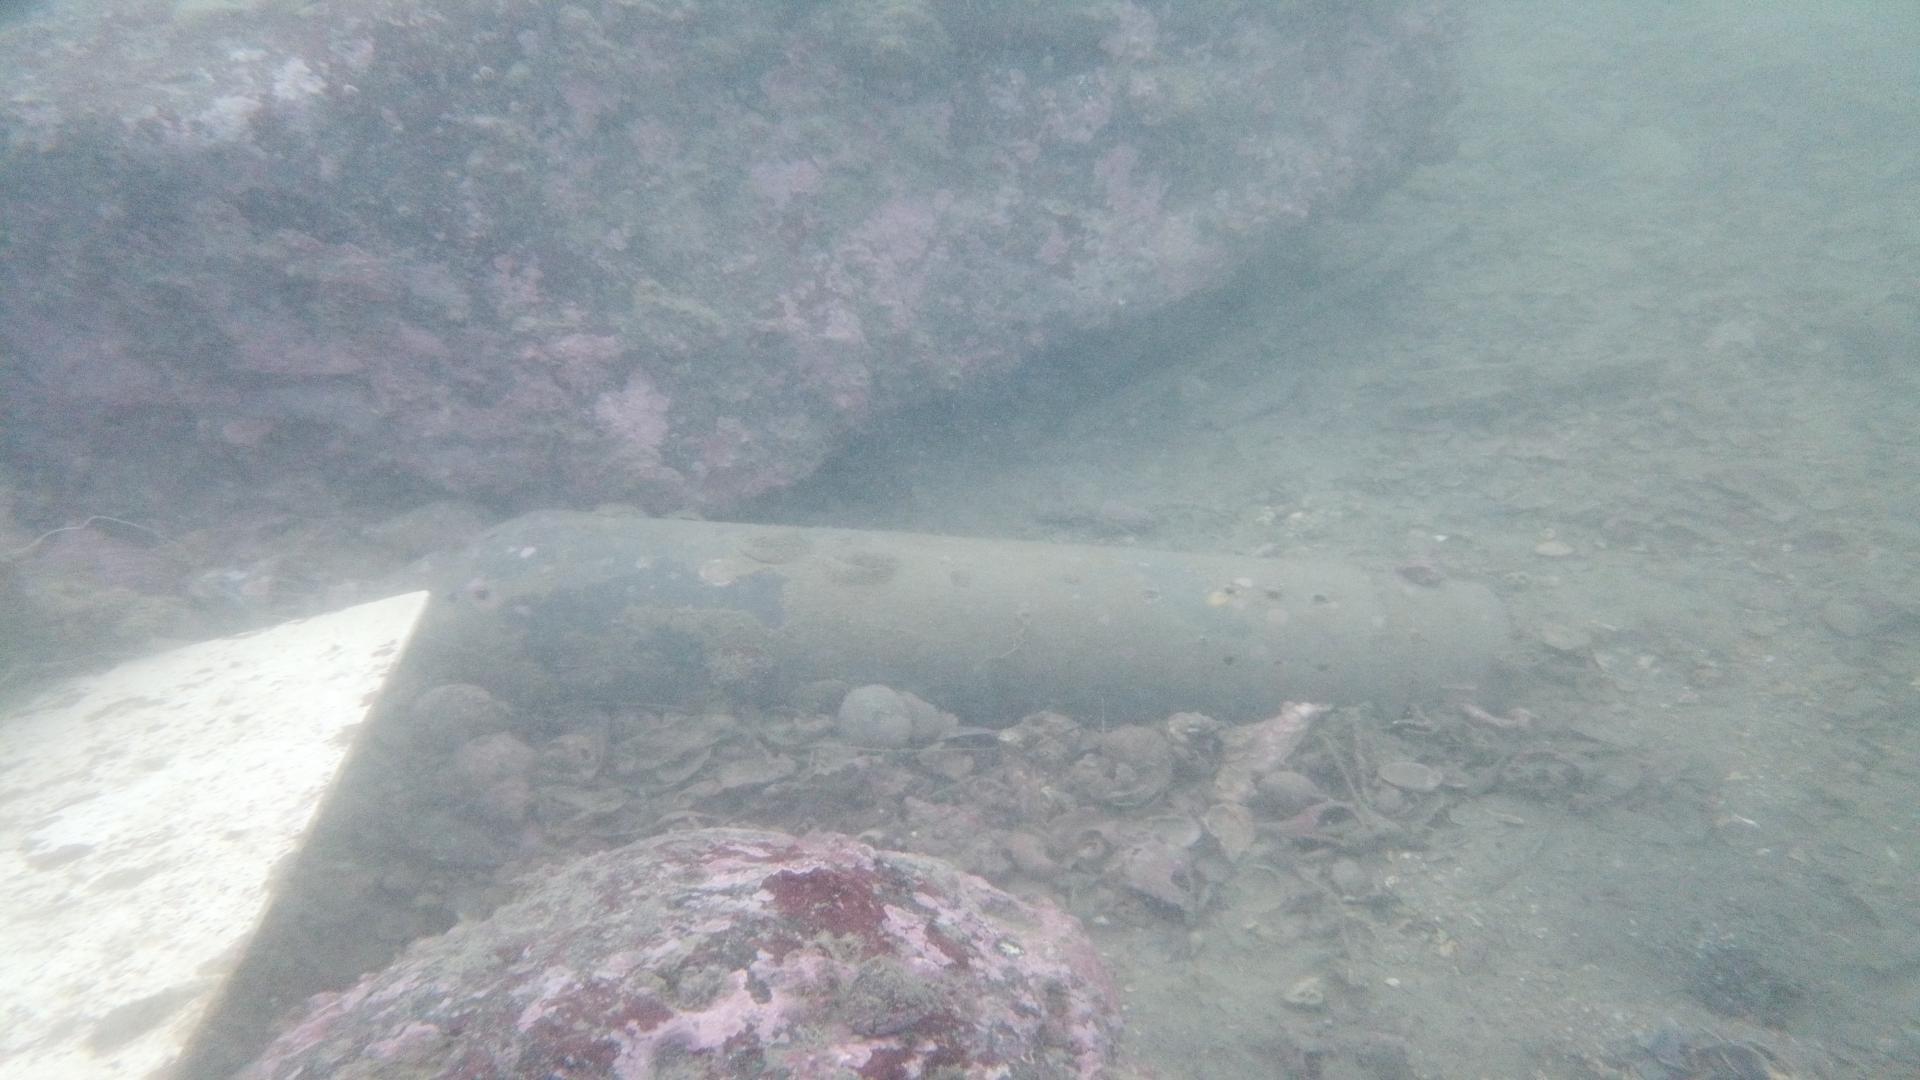eel fish trap: (255, 505, 1509, 735)
